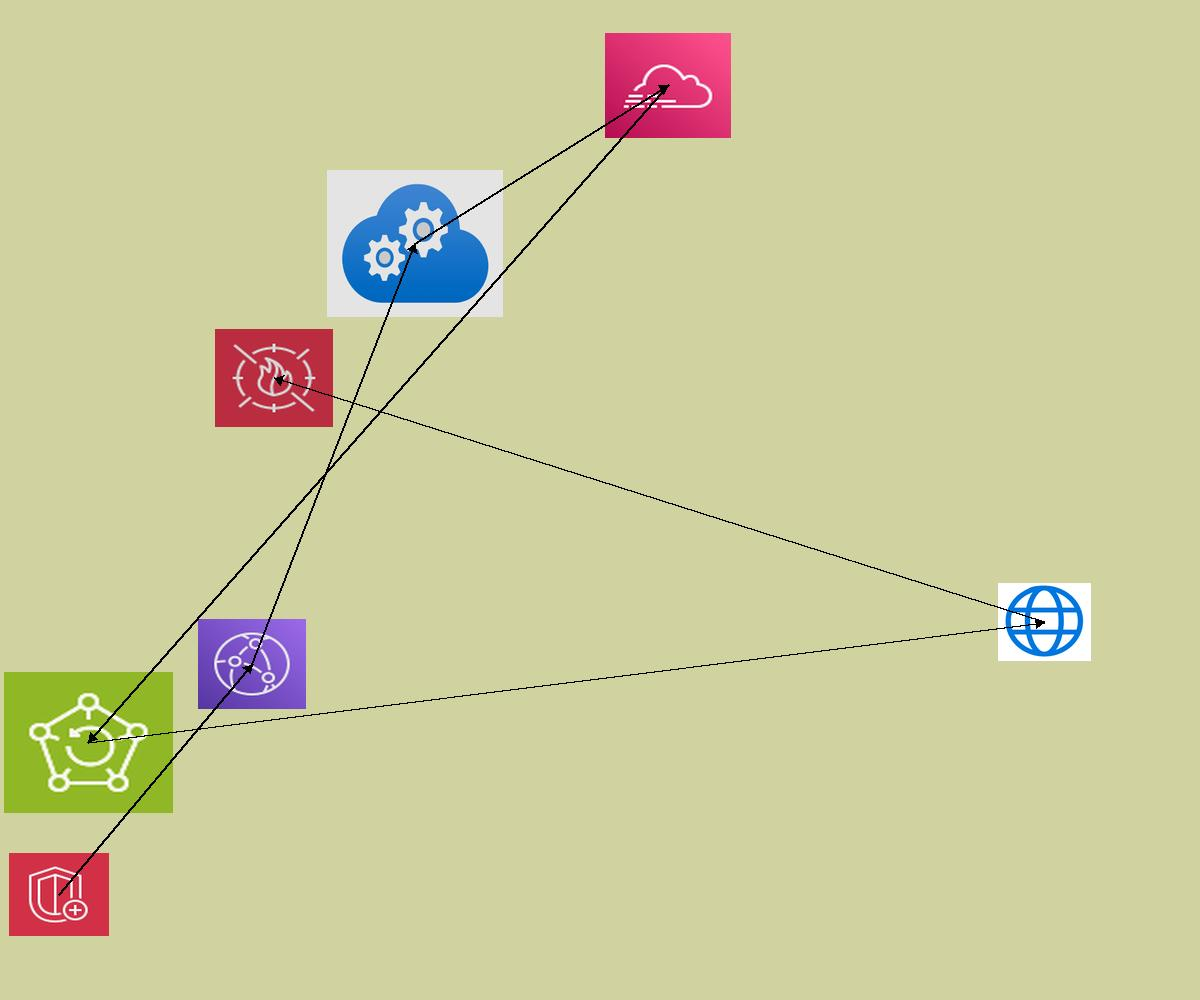AWS-Backup: (4, 672, 173, 813)
AWS-CloudFront: (198, 619, 306, 709)
AWS-CloudTrail: (605, 33, 731, 138)
AWS-Shield: (9, 853, 109, 936)
AWS-WAF: (215, 329, 333, 427)
Azure_cloud_services: (327, 170, 503, 317)
Azure_http: (998, 583, 1091, 661)
